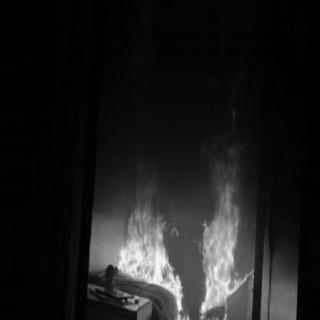Fire: (196, 126, 256, 317), (111, 166, 187, 316)
